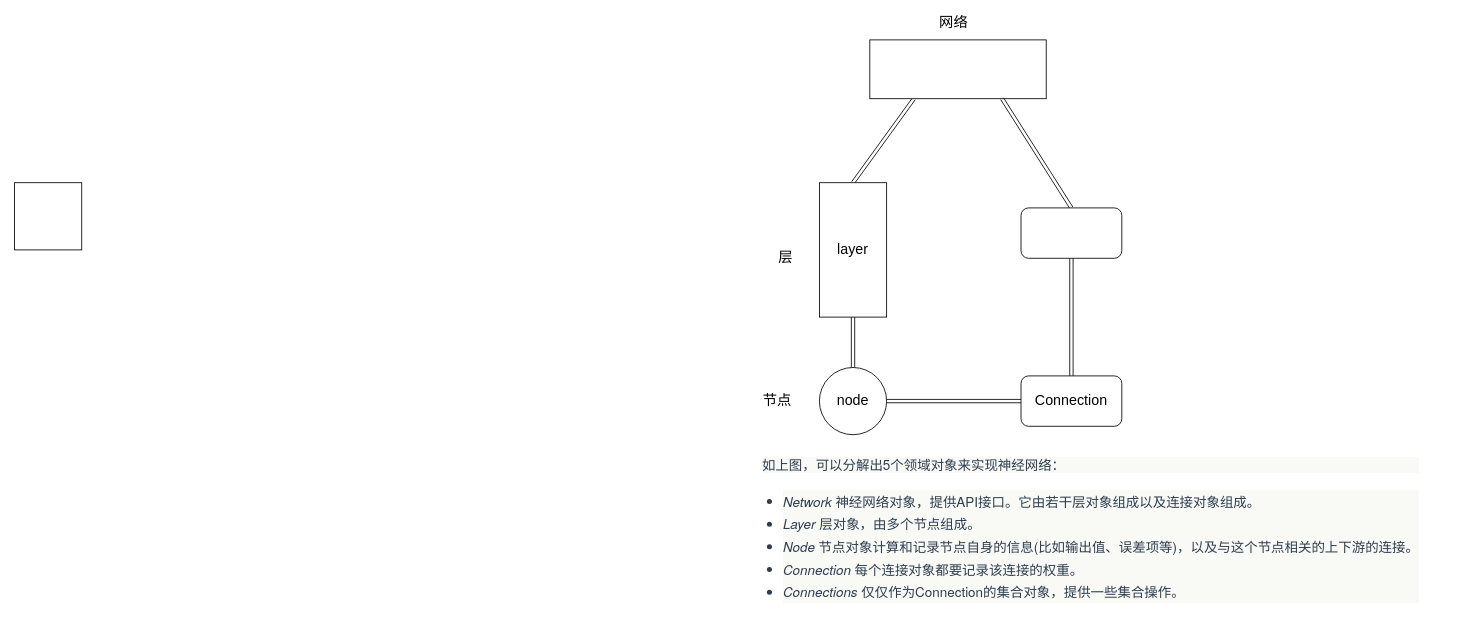
Some shapes in this 1464 by 633 pixel diagram are drawn without their labels. The centre of each missing label's shape, as x and y in pixels:
"Connections" belongs at point (1071, 232).
"network" belongs at point (957, 69).
